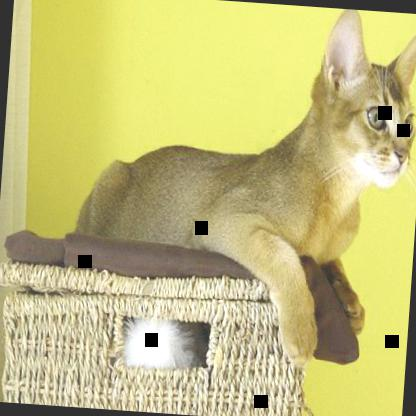cat: (65, 0, 415, 375)
